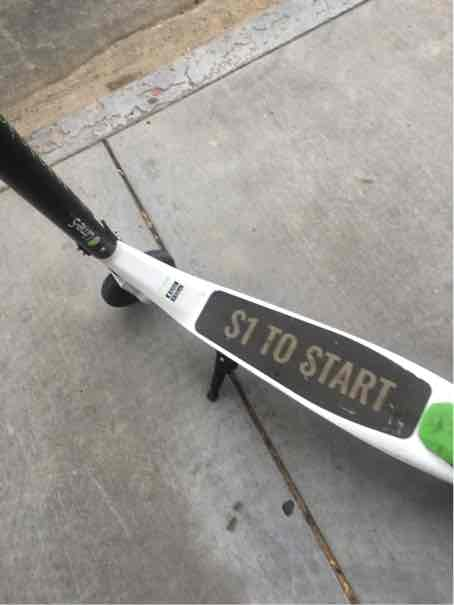scooter: (5, 18, 440, 549)
